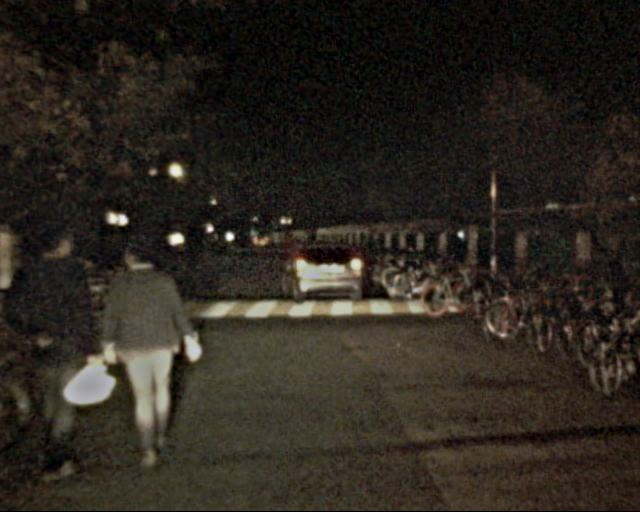person: (26, 213, 94, 479), (118, 230, 196, 454)
